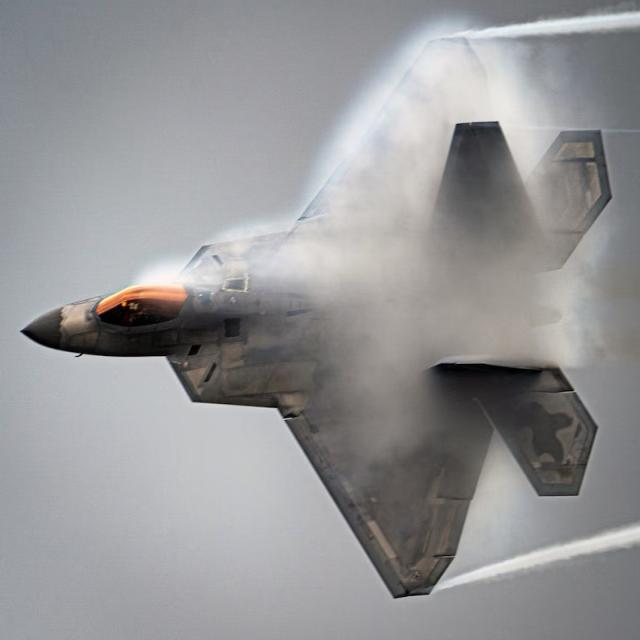F22: (8, 29, 618, 623)
